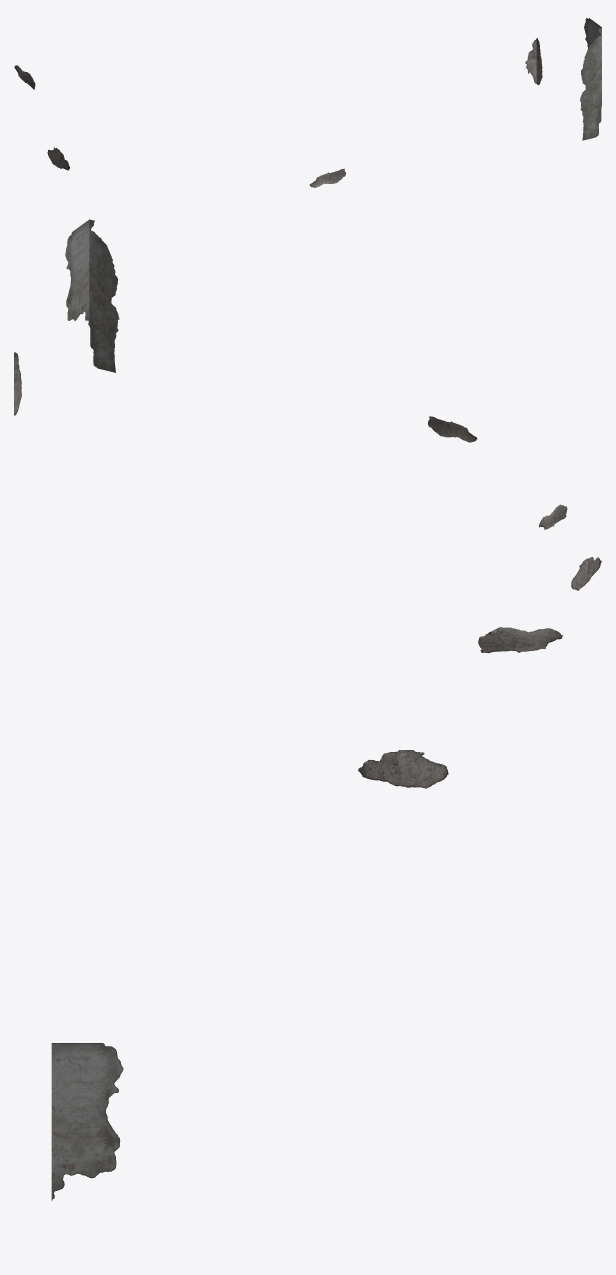
Rendered from Building_1c01Decal2048.glb.
3 renders of one model, top to bottom at view 1: azimuth 30°, elevation 25°; view 2: azimuth 150°, elevation 25°; view 3: azimuth 270°, elevation 25°, orthographic. The views are drawn at different scales.
Parts seen in each view (by area): view 1: xiutz_1c_01_decal_2048; view 2: xiutz_1c_01_decal_2048; view 3: xiutz_1c_01_decal_2048.
Part boxes in pixels (x1,y1,x2,y2): xiutz_1c_01_decal_2048: (14,18,601,187); xiutz_1c_01_decal_2048: (14,219,601,590); xiutz_1c_01_decal_2048: (51,627,562,1200).
Size of the model in its own units: 22.2 by 5.02 by 10.72.
Materials: 1 (1 with a texture image).
